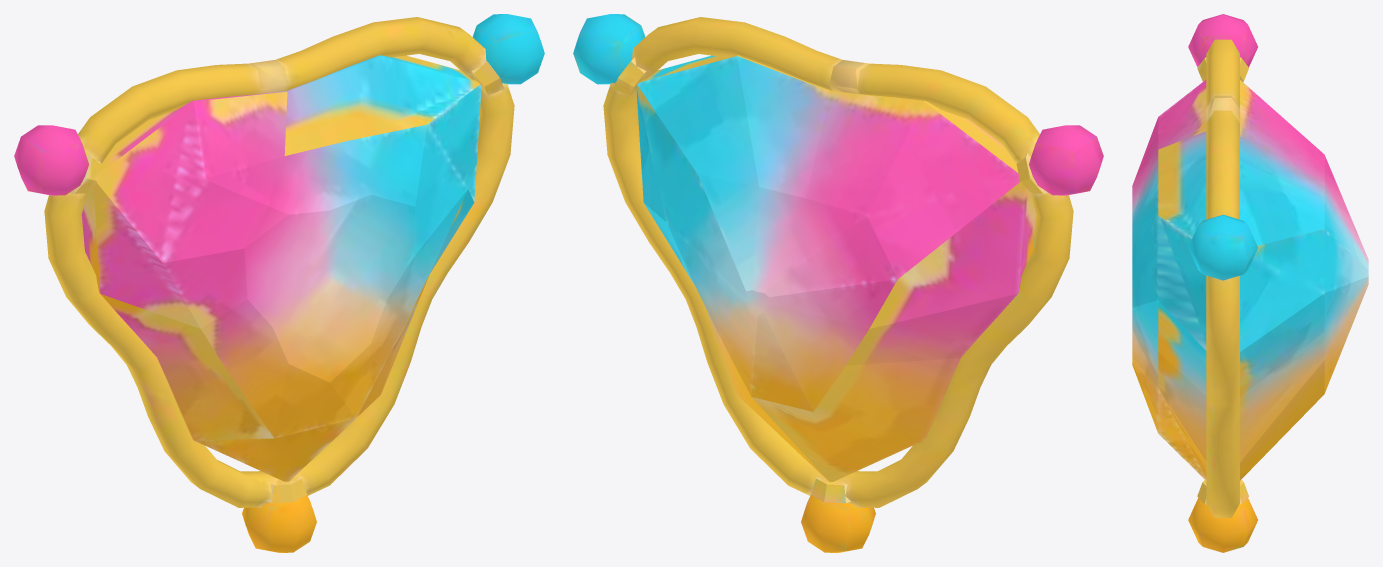
Rendered from wishgem.glb.
3 views of the same model, side by side, from view 1: azimuth 30°, elevation 25°; view 2: azimuth 150°, elevation 25°; view 3: azimuth 270°, elevation 25° (orthographic). The views are drawn at different scales.
Parts seen in each view (by area): view 1: WishGem_Body, WishGem_Setting; view 2: WishGem_Body, WishGem_Setting; view 3: WishGem_Body, WishGem_Setting.
Part boxes in pixels (bbox=[...]): WishGem_Body: bbox=[81, 55, 481, 481]; WishGem_Setting: bbox=[14, 14, 544, 552]; WishGem_Body: bbox=[636, 55, 1036, 481]; WishGem_Setting: bbox=[573, 14, 1103, 552]; WishGem_Body: bbox=[1132, 80, 1368, 480]; WishGem_Setting: bbox=[1188, 14, 1258, 552].
Size of the model in its own units: 0.4195 by 0.3857 by 0.182.
1 material, 1 textured.
